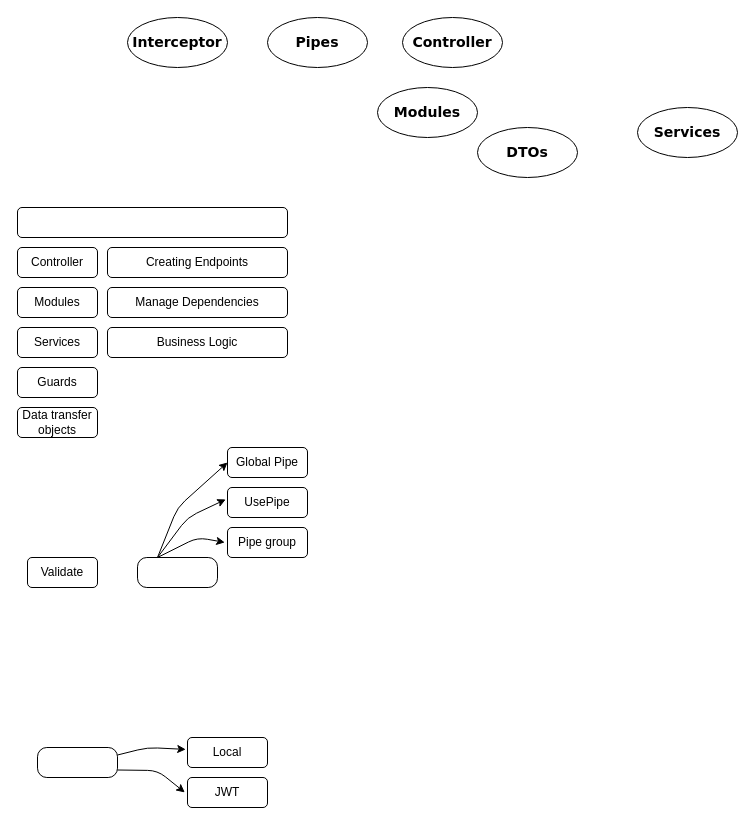
Some shapes in this 755 by 825 pixel diagram are drawn without their labels. The shapes that lost their labels are listed below. From the top down, each one's centre as x and y in pixels, then its label:
At point (152, 222): "NestJS Entity".
At point (177, 572): "Pipe".
At point (77, 762): "Passport".
